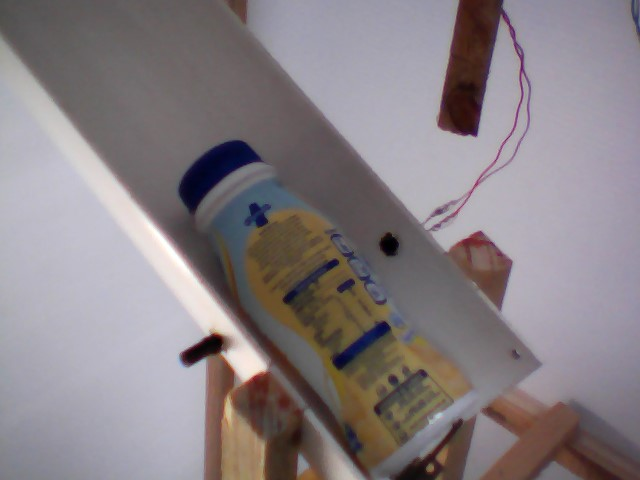plastico: (172, 137, 489, 480)
